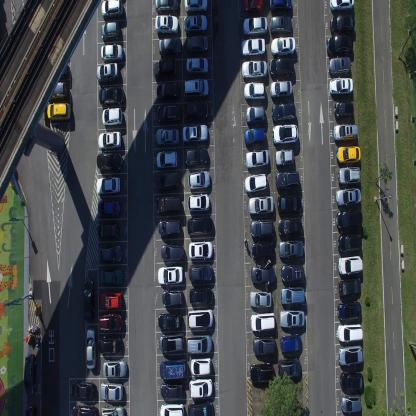car: (326, 33, 354, 57), (159, 357, 187, 380), (186, 214, 213, 236), (158, 332, 185, 354), (335, 208, 362, 230), (156, 194, 181, 217), (23, 353, 36, 397), (188, 378, 214, 400), (337, 254, 363, 276), (248, 194, 274, 216), (240, 36, 266, 58), (242, 15, 268, 37), (187, 308, 214, 329), (96, 150, 123, 171), (98, 312, 123, 334), (155, 171, 180, 193), (184, 145, 209, 167), (97, 128, 122, 150), (152, 57, 177, 79), (337, 345, 363, 366), (186, 334, 212, 355), (276, 219, 302, 240), (96, 176, 122, 197), (248, 363, 275, 383), (157, 264, 184, 284), (249, 312, 276, 332), (336, 324, 363, 344), (183, 78, 210, 98), (155, 13, 178, 36), (277, 359, 301, 381), (98, 243, 122, 265), (337, 232, 361, 254), (188, 262, 213, 283), (274, 171, 299, 192), (47, 104, 72, 125), (273, 123, 298, 144), (269, 57, 295, 77), (99, 86, 125, 106), (252, 335, 275, 357), (251, 264, 274, 286), (270, 78, 293, 100), (250, 219, 274, 240), (280, 263, 304, 284), (244, 173, 268, 194), (44, 82, 68, 103), (329, 76, 353, 97), (242, 59, 266, 80), (271, 35, 295, 56), (158, 37, 182, 58), (279, 309, 304, 329), (188, 240, 213, 260), (335, 188, 360, 208), (333, 123, 358, 143), (330, 14, 355, 34), (271, 102, 296, 122), (184, 99, 209, 119), (95, 62, 120, 82), (182, 124, 208, 143), (154, 127, 180, 146), (182, 14, 208, 33), (83, 278, 94, 322), (188, 170, 210, 192), (161, 286, 183, 308), (338, 277, 361, 298), (99, 382, 123, 402), (158, 311, 182, 331), (277, 194, 301, 214), (337, 302, 361, 322), (245, 150, 269, 170), (100, 42, 124, 62), (336, 144, 361, 163), (156, 102, 181, 121), (188, 286, 214, 304), (97, 221, 119, 242), (190, 356, 212, 377), (270, 14, 292, 35), (186, 34, 208, 55), (160, 380, 183, 400), (328, 56, 351, 76), (100, 19, 120, 42), (339, 372, 363, 391), (337, 165, 361, 184), (156, 82, 180, 101), (102, 360, 127, 378), (278, 240, 303, 258), (98, 337, 124, 354), (245, 104, 266, 125), (340, 394, 362, 414), (156, 150, 178, 170), (334, 98, 354, 120), (244, 80, 266, 100), (102, 105, 122, 127), (70, 382, 93, 401), (158, 218, 181, 237), (250, 240, 273, 259), (249, 289, 272, 308), (100, 0, 123, 19), (100, 292, 124, 310), (280, 286, 304, 304), (100, 268, 124, 286), (280, 333, 301, 353), (244, 127, 266, 146), (188, 400, 214, 416), (98, 200, 121, 218), (161, 244, 184, 262), (186, 56, 209, 74), (86, 329, 96, 370), (187, 194, 209, 212), (274, 149, 294, 168), (154, 0, 180, 14), (242, 0, 263, 15), (159, 403, 185, 415), (330, 0, 354, 12), (268, 0, 292, 12), (184, 0, 208, 12), (71, 405, 97, 415), (24, 402, 38, 416), (100, 407, 124, 415)
